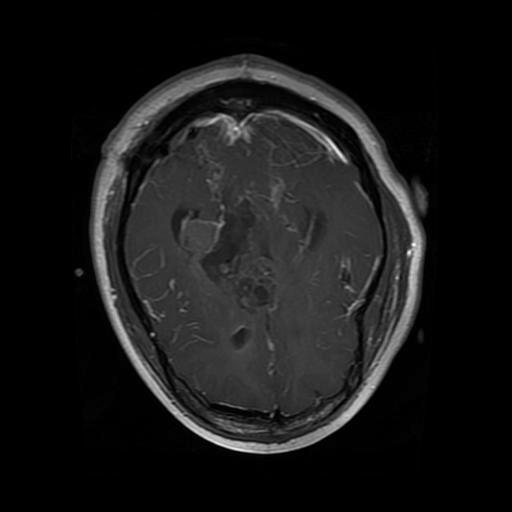Tumour-Glioma: (189, 205, 276, 295)
